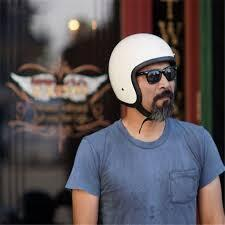helmet: (108, 32, 177, 114)
